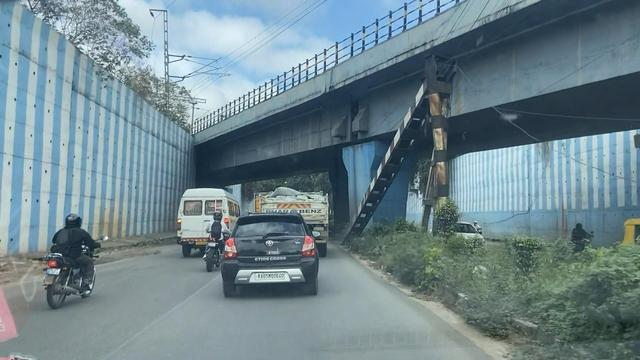HMV: (181, 187, 239, 253)
LMV: (219, 207, 322, 297), (38, 211, 113, 310), (204, 209, 230, 275)
